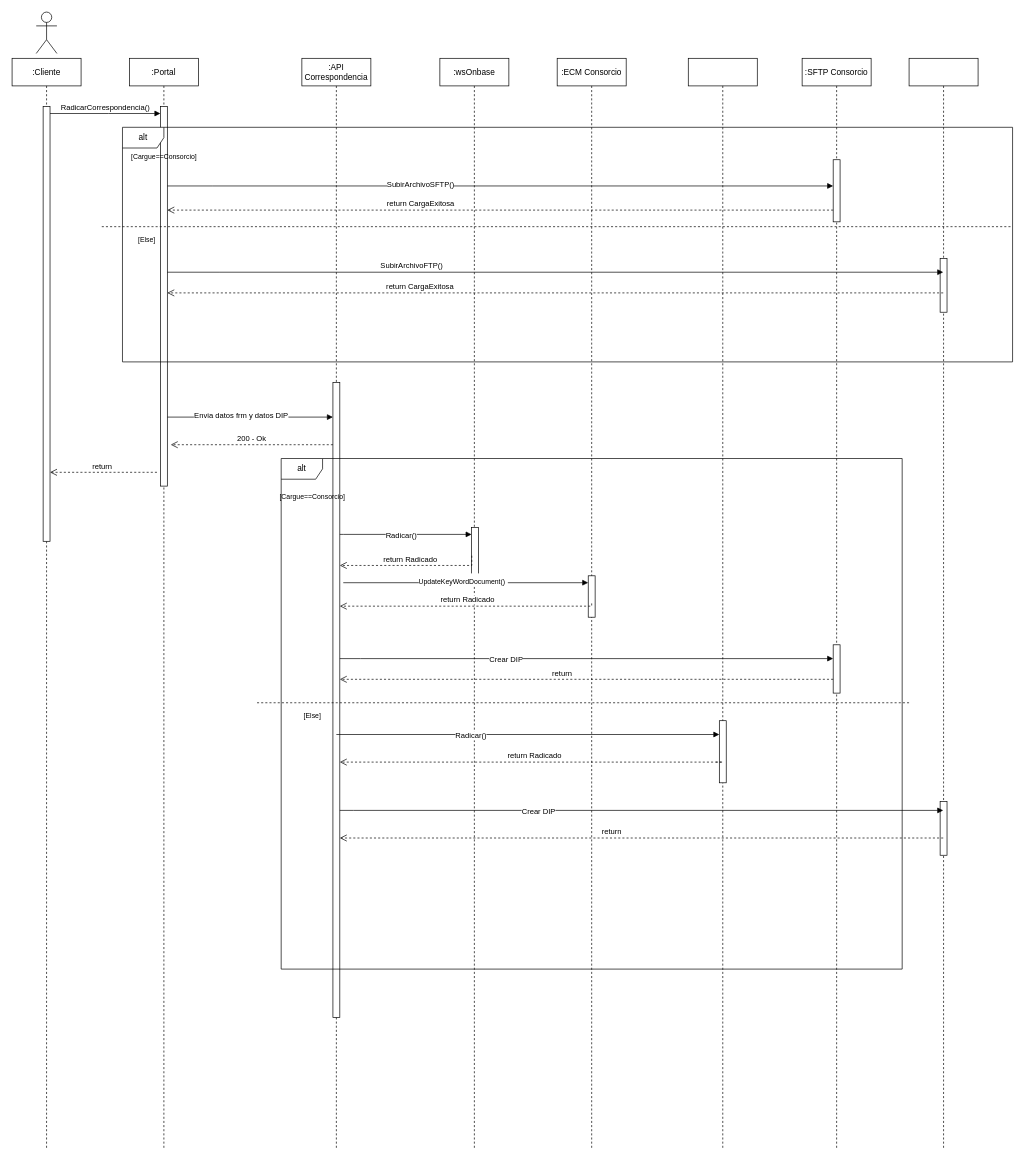
Image size: 1025x1161. Some labels were removed from this diagram. Here are the shapes that lost their labels. From the top down, the box of each, then its label:
(688, 58, 757, 1149): :ECM Caja
(908, 58, 978, 1149): :FTP Caja
